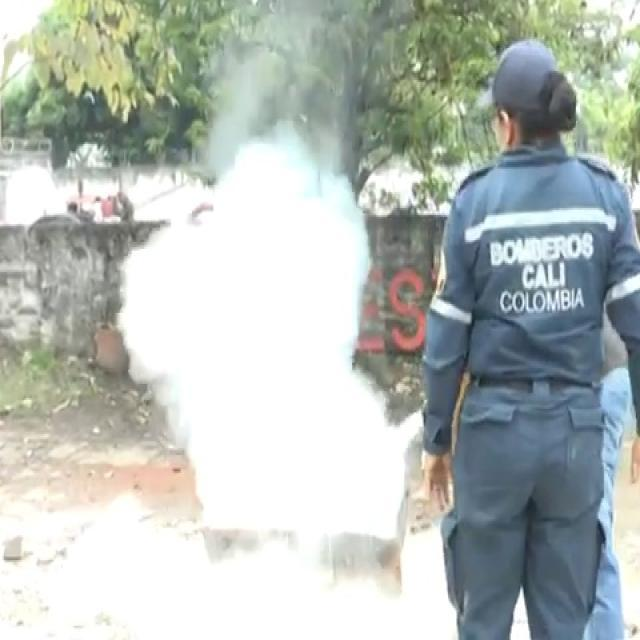Smoke: (91, 3, 457, 640)
